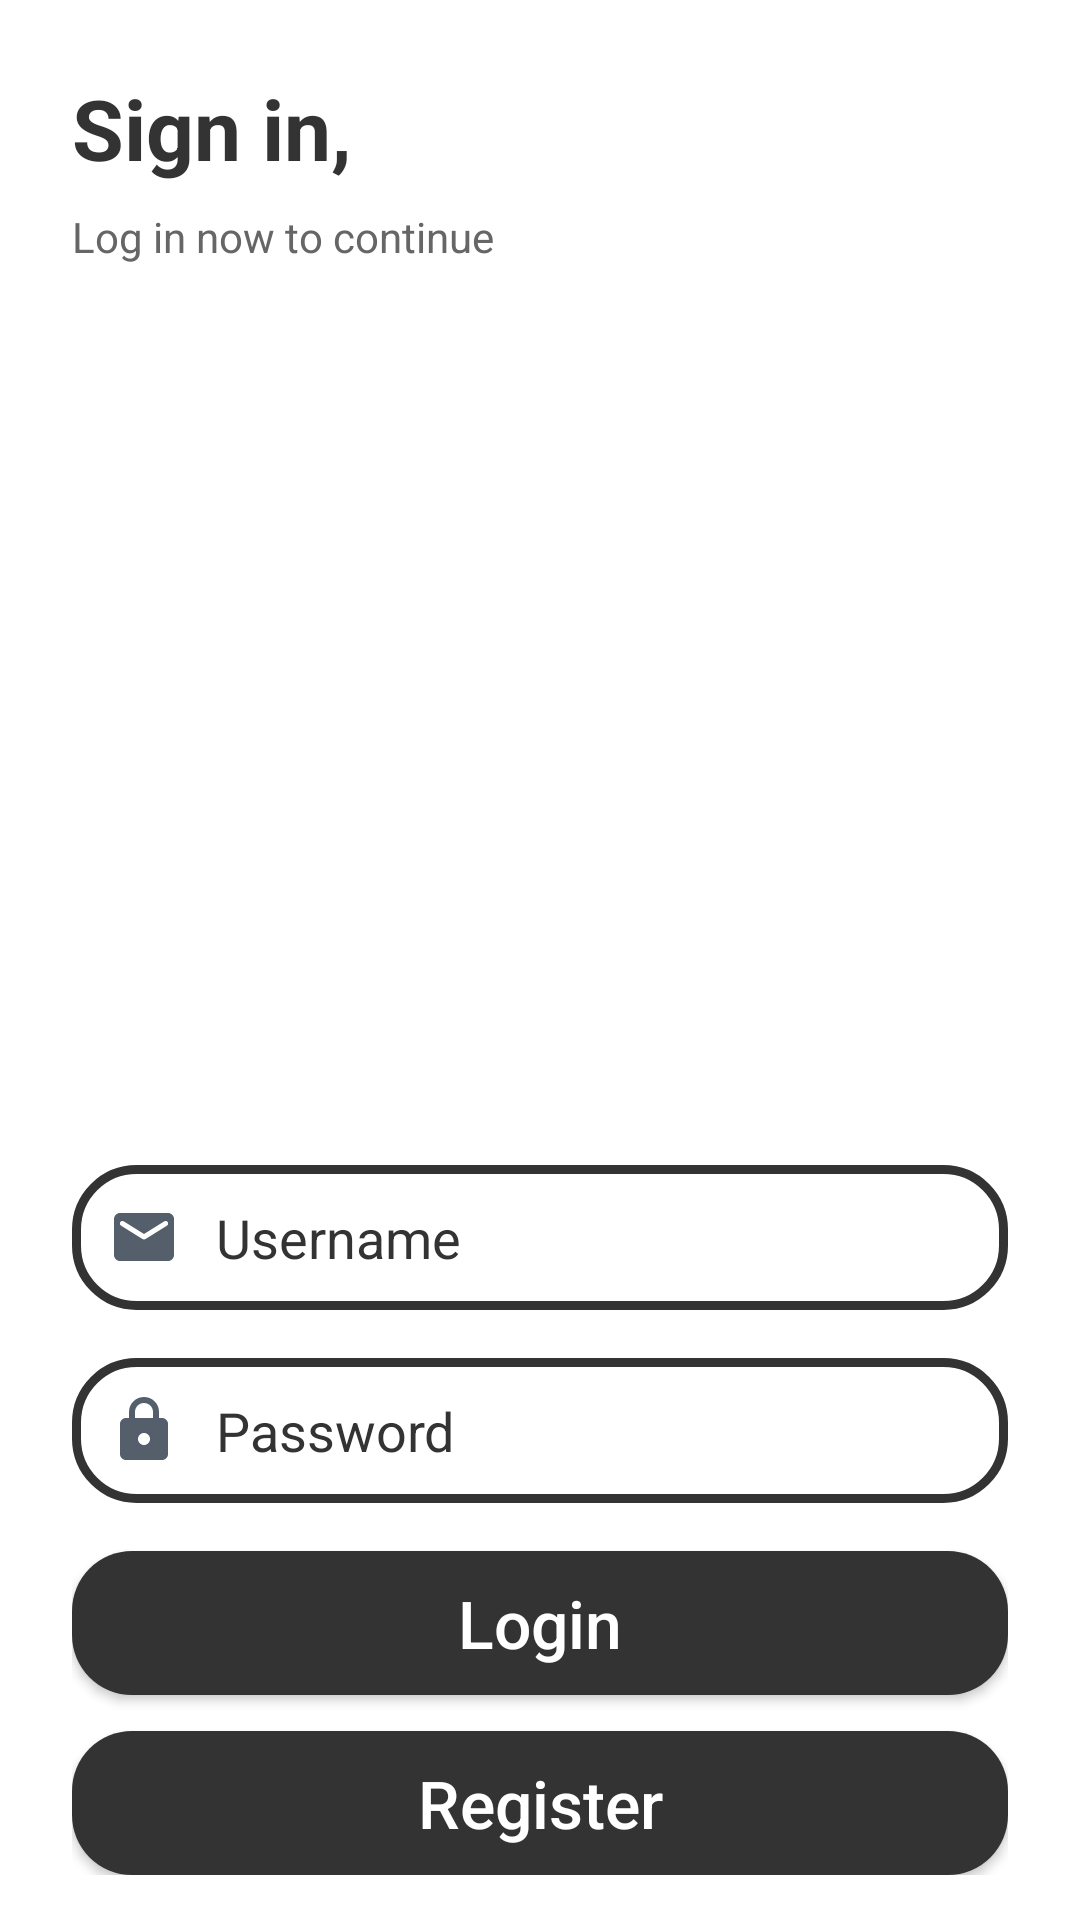

Icons on this 1080 x 1920 Android screen, each with the point to tap as (x=x, y=y):
email: (x=144, y=1237)
